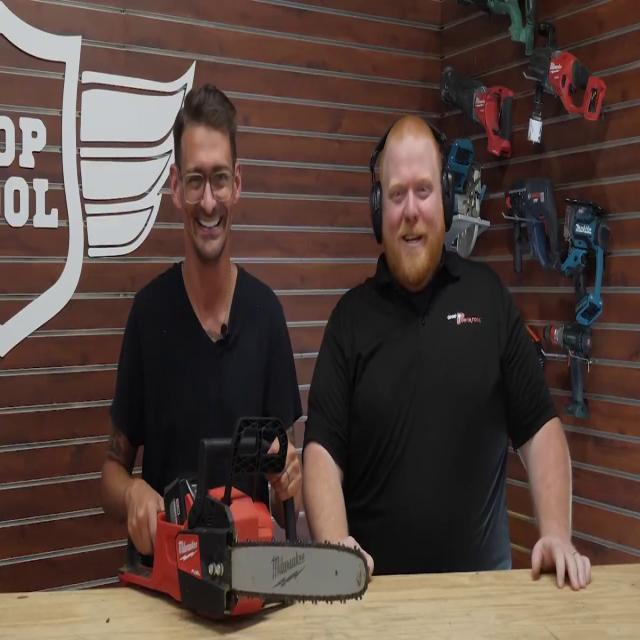earmuff: (366, 174, 387, 249), (439, 157, 457, 232)
glasses: (175, 164, 237, 214)
